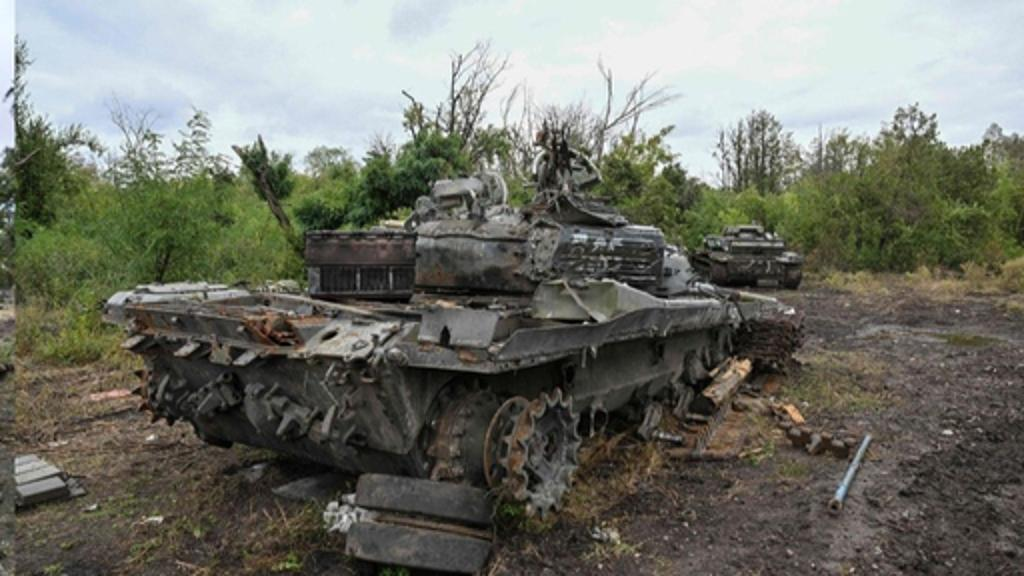TANK: (98, 174, 742, 512), (682, 220, 802, 292)
